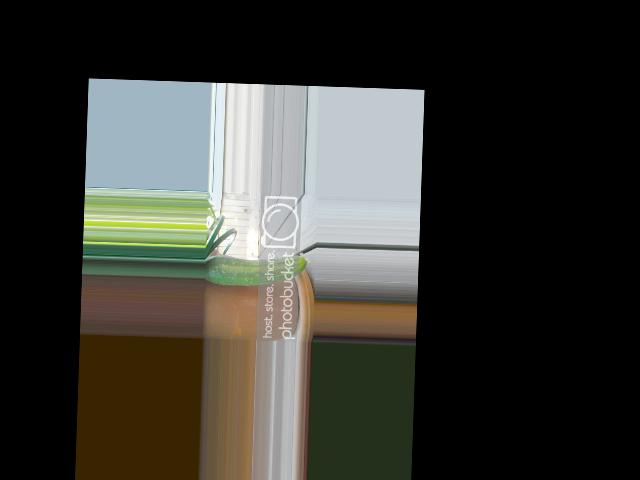cucumber: (204, 252, 311, 287)
